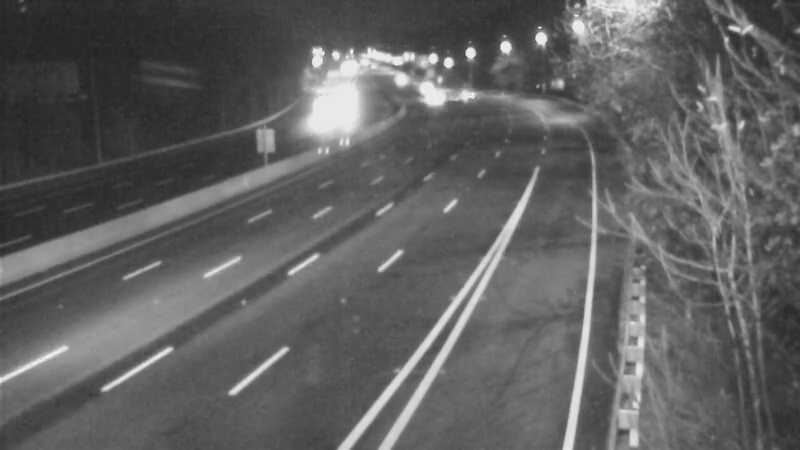vehicle: (370, 54, 420, 104), (394, 62, 444, 112), (440, 67, 490, 117), (408, 72, 458, 122), (294, 94, 344, 144)
